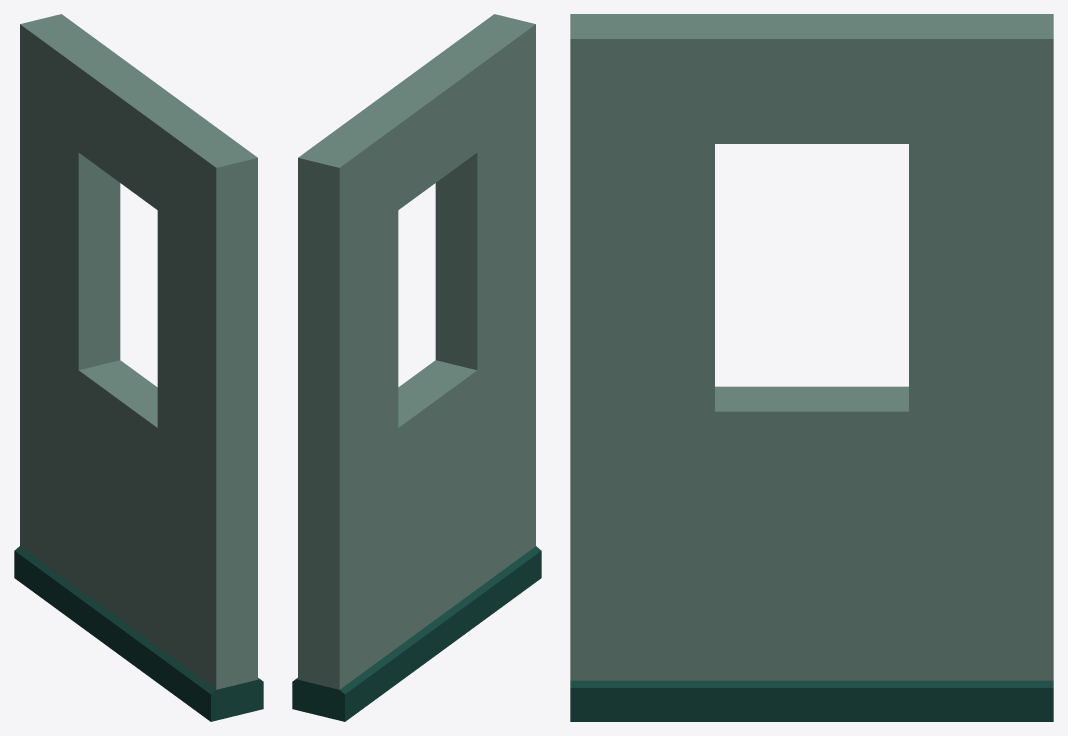
File: wallWindow.fbx
3 renders of one model, left to right at view 1: azimuth 30°, elevation 25°; view 2: azimuth 150°, elevation 25°; view 3: azimuth 270°, elevation 25°, orthographic. The views are drawn at different scales.
Parts seen in each view (by area): view 1: wallWindow_geo; view 2: wallWindow_geo; view 3: wallWindow_geo.
Boxes of the visible parts, x1,y1,x2,y2 form: wallWindow_geo: (14,14,263,721); wallWindow_geo: (292,14,541,721); wallWindow_geo: (570,14,1053,721).
Bounding box in the file's own units: 72.05 × 723 × 466.
1 material, 1 textured.
